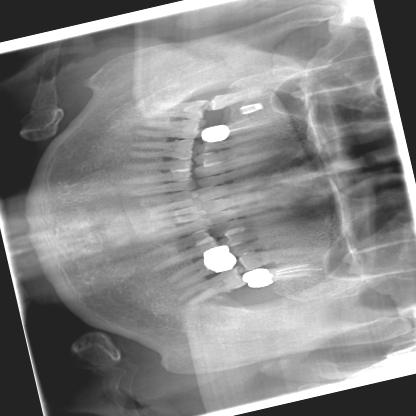Bicon: (230, 98, 268, 122)
